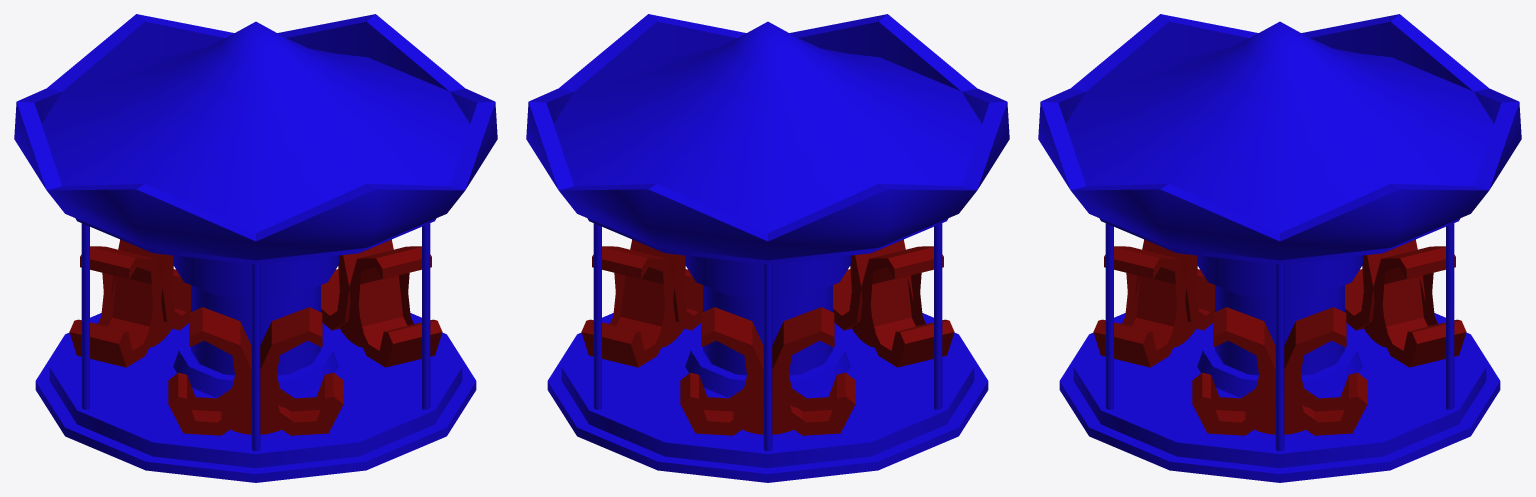
Rendered from CarousselSM.FBX.
3 views of the same model, side by side, from view 1: azimuth 30°, elevation 25°; view 2: azimuth 150°, elevation 25°; view 3: azimuth 270°, elevation 25° (orthographic).
Visible parts, largest first — view 1: Cylinder010, SiegeCaroussel, Cylinder016; view 2: Cylinder010, SiegeCaroussel; view 3: Cylinder010, SiegeCaroussel.
Part boxes in pixels (bbox=[...]): Cylinder010: bbox=[14, 14, 497, 482]; SiegeCaroussel: bbox=[69, 239, 442, 435]; Cylinder016: bbox=[81, 223, 89, 409]; Cylinder010: bbox=[526, 14, 1009, 482]; SiegeCaroussel: bbox=[581, 239, 954, 435]; Cylinder010: bbox=[1038, 14, 1521, 482]; SiegeCaroussel: bbox=[1093, 239, 1466, 435].
Bounding box in the file's own units: 539 × 453 × 539.
